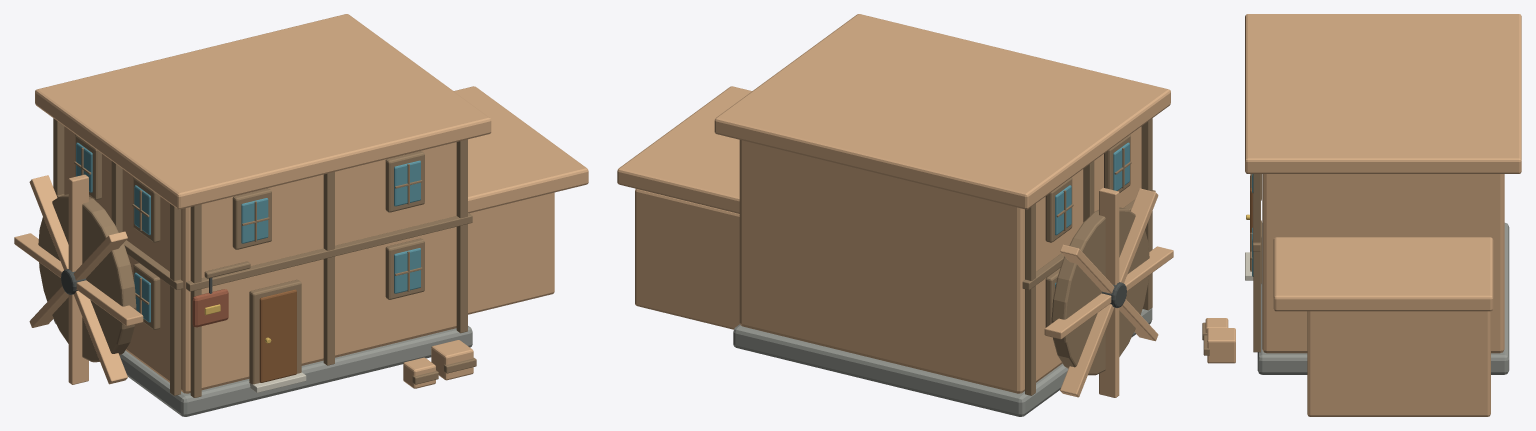
Rendered from arid-mill-1.glb.
The picture shows the model from 3 angles, left to right: view 1: azimuth 30°, elevation 25°; view 2: azimuth 150°, elevation 25°; view 3: azimuth 270°, elevation 25°; orthographic projection. The views are drawn at different scales.
Parts seen in each view (by area): view 1: Adobe cream, Adobe fieldstone, Palm beams, Adobe wood, Foundation stone, Blue glass, Door oak, Painted sign, Cut limestone; view 2: Adobe cream, Adobe fieldstone, Adobe wood, Palm beams, Foundation stone, Blue glass; view 3: Adobe cream, Adobe wood, Adobe fieldstone, Foundation stone, Palm beams.
Part boxes in pixels (x1,y1,x2,y2): Adobe cream: (35, 14, 588, 213); Adobe fieldstone: (64, 126, 456, 393); Palm beams: (38, 118, 476, 397); Adobe wood: (14, 174, 554, 388); Foundation stone: (53, 319, 472, 416); Blue glass: (76, 142, 420, 322); Door oak: (259, 289, 296, 382); Painted sign: (192, 289, 228, 327); Cut limestone: (248, 372, 306, 392); Adobe cream: (617, 14, 1170, 213); Adobe fieldstone: (739, 126, 1141, 393); Adobe wood: (635, 187, 1173, 397); Palm beams: (1022, 118, 1155, 395); Foundation stone: (733, 308, 1152, 416); Blue glass: (1055, 142, 1129, 288); Adobe cream: (1245, 14, 1521, 311); Adobe wood: (1205, 311, 1490, 416); Adobe fieldstone: (1262, 174, 1504, 353); Foundation stone: (1257, 223, 1509, 374); Palm beams: (1202, 174, 1261, 355).
Size of the model in its own units: 6.46 by 3.27 by 4.09.
